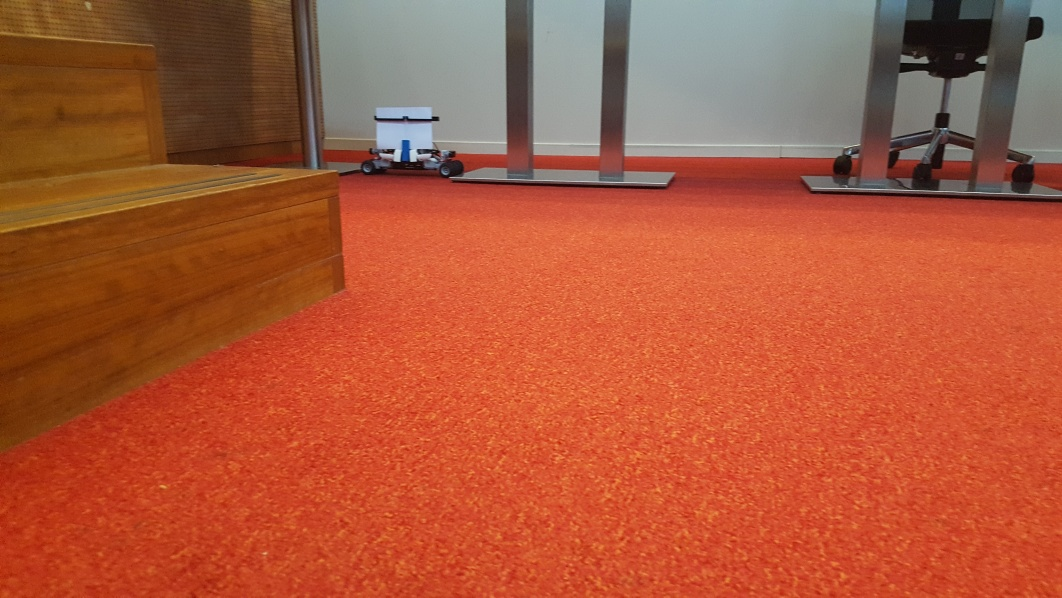car: (359, 107, 467, 180)
